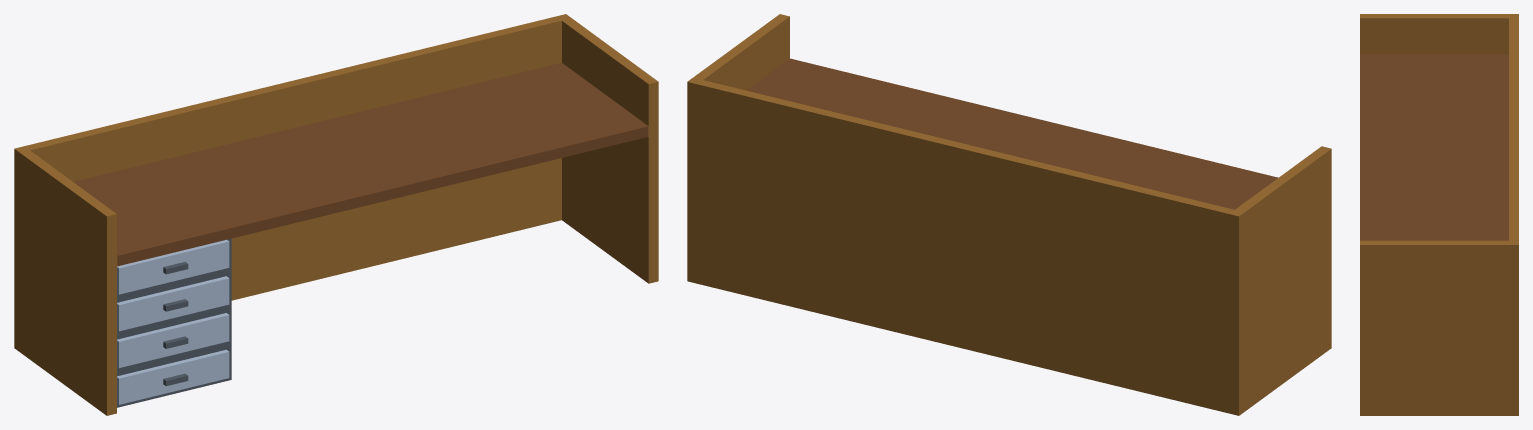
The model's file is Table Reception.fbx.
3 renders of one model, left to right at view 1: azimuth 30°, elevation 25°; view 2: azimuth 150°, elevation 25°; view 3: azimuth 270°, elevation 25°, orthographic. The views are drawn at different scales.
Parts seen in each view (by area): view 1: Table_Reception; view 2: Table_Reception; view 3: Table_Reception.
Part boxes in pixels (x1,y1,x2,y2): Table_Reception: (14, 14, 658, 415); Table_Reception: (687, 14, 1331, 415); Table_Reception: (1360, 14, 1518, 415).
Size of the model in its own units: 550 by 190 by 160.
